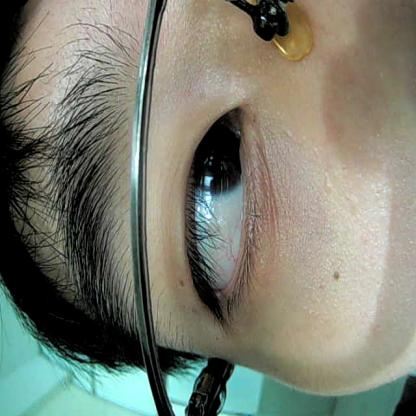Left: (170, 95, 269, 328)
